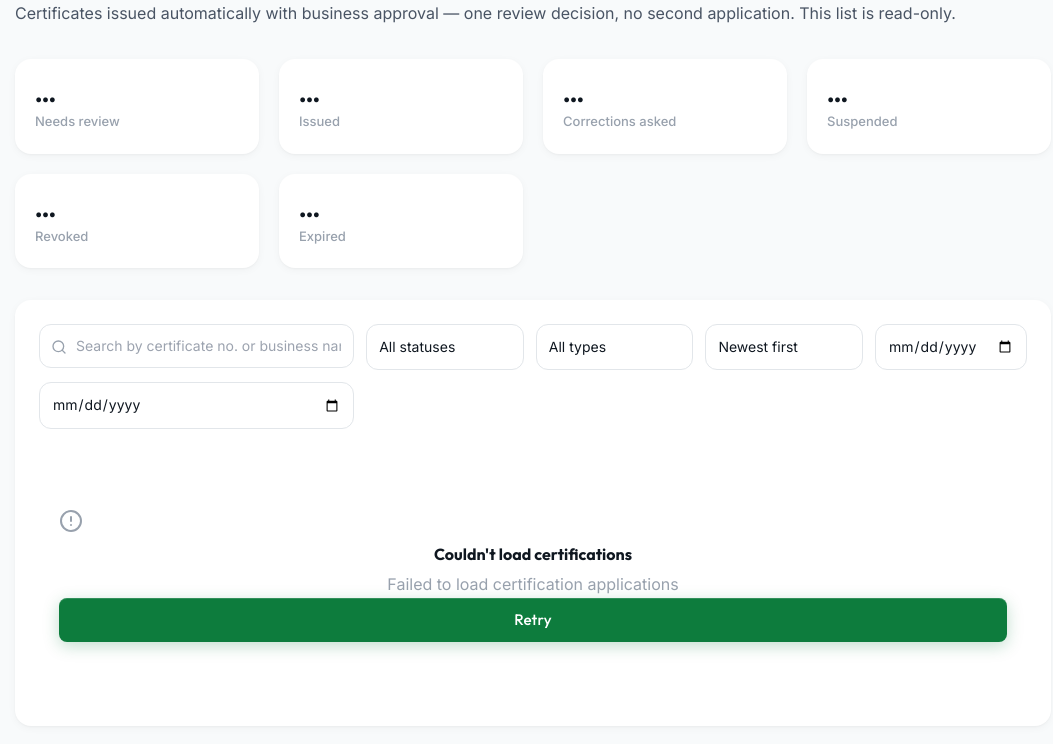
Test: AdminCertifications (read-only issued list) › shows empty and error states with retry
(page scrolled)
Check: the element with test id "certs-error" is shown, box x1=59 y1=509 x2=1007 y2=642
Click the button with test id "retry-certs" at (533, 620), box x1=59 y1=598 x2=1007 y2=642
(page scrolled)
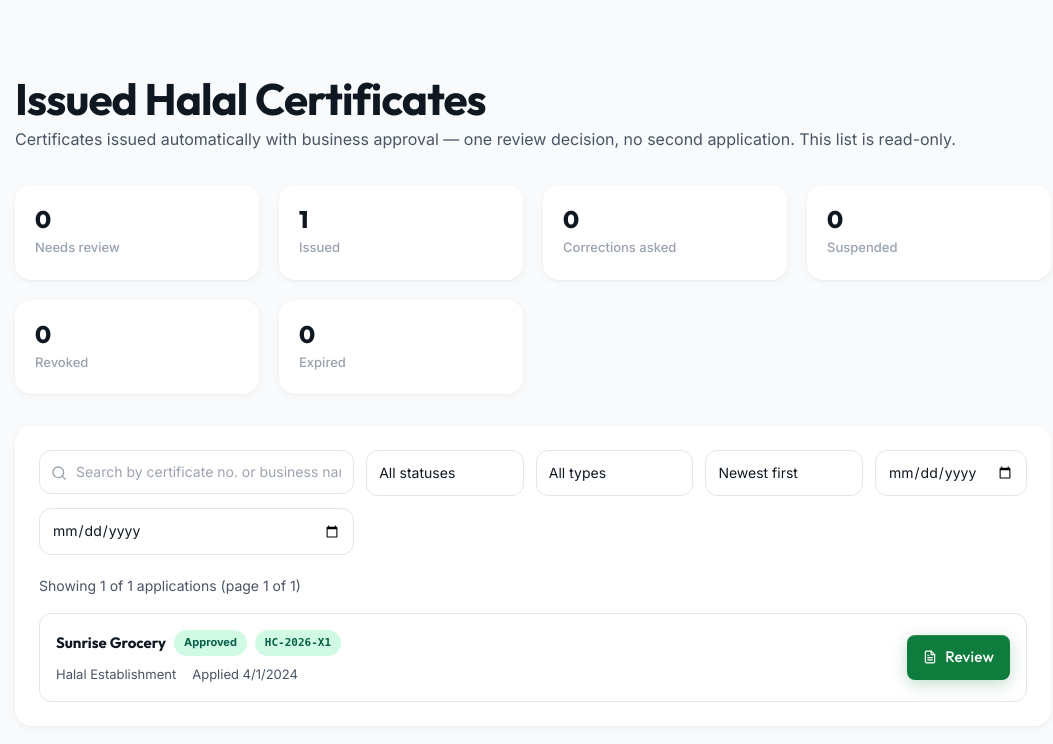
Check: the heading "Sunrise Grocery" is shown, box x1=56 y1=634 x2=166 y2=652
